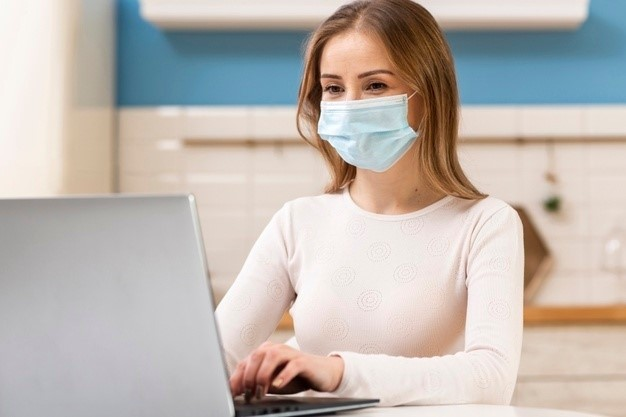face_with_mask: (310, 4, 448, 174)
